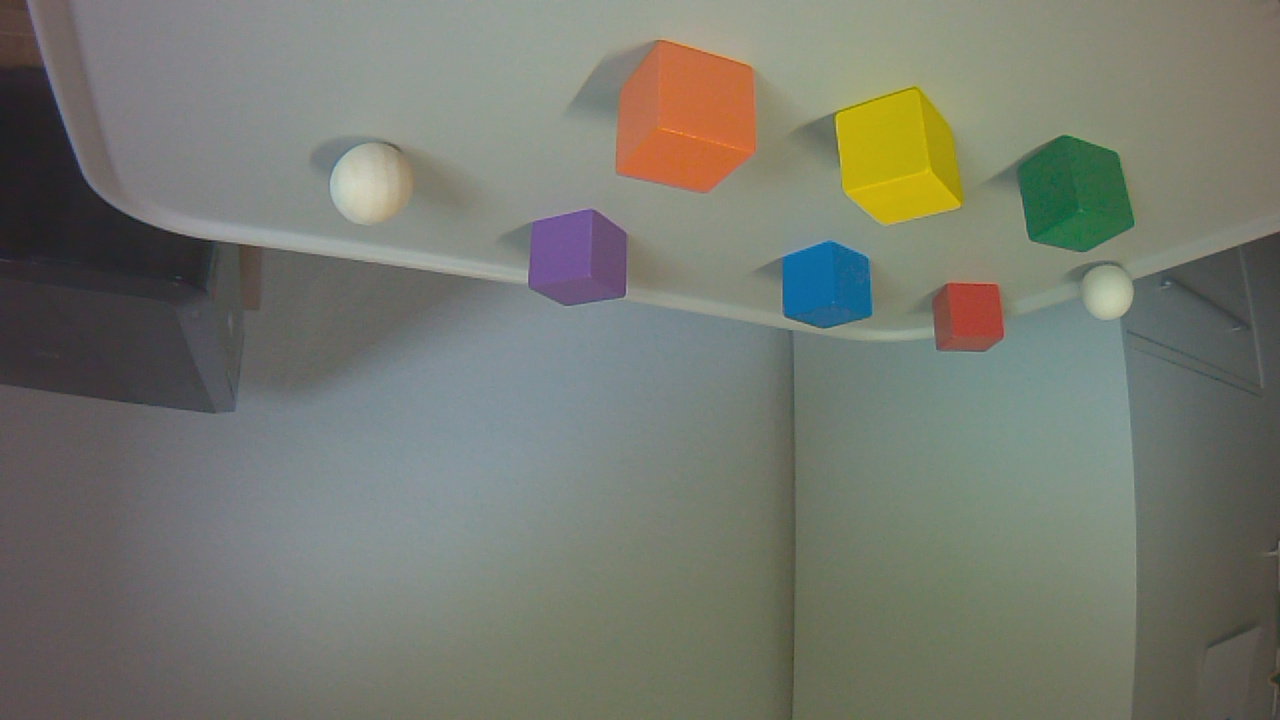ball: (332, 145, 419, 233), (1082, 269, 1141, 328)
cube_blue: (785, 246, 881, 337)
cube_green: (1020, 139, 1141, 261)
cube_orange: (618, 45, 765, 201)
cube_purple: (530, 211, 635, 315)
cube_red: (934, 285, 1011, 359)
cube_yellow: (837, 90, 969, 234)
